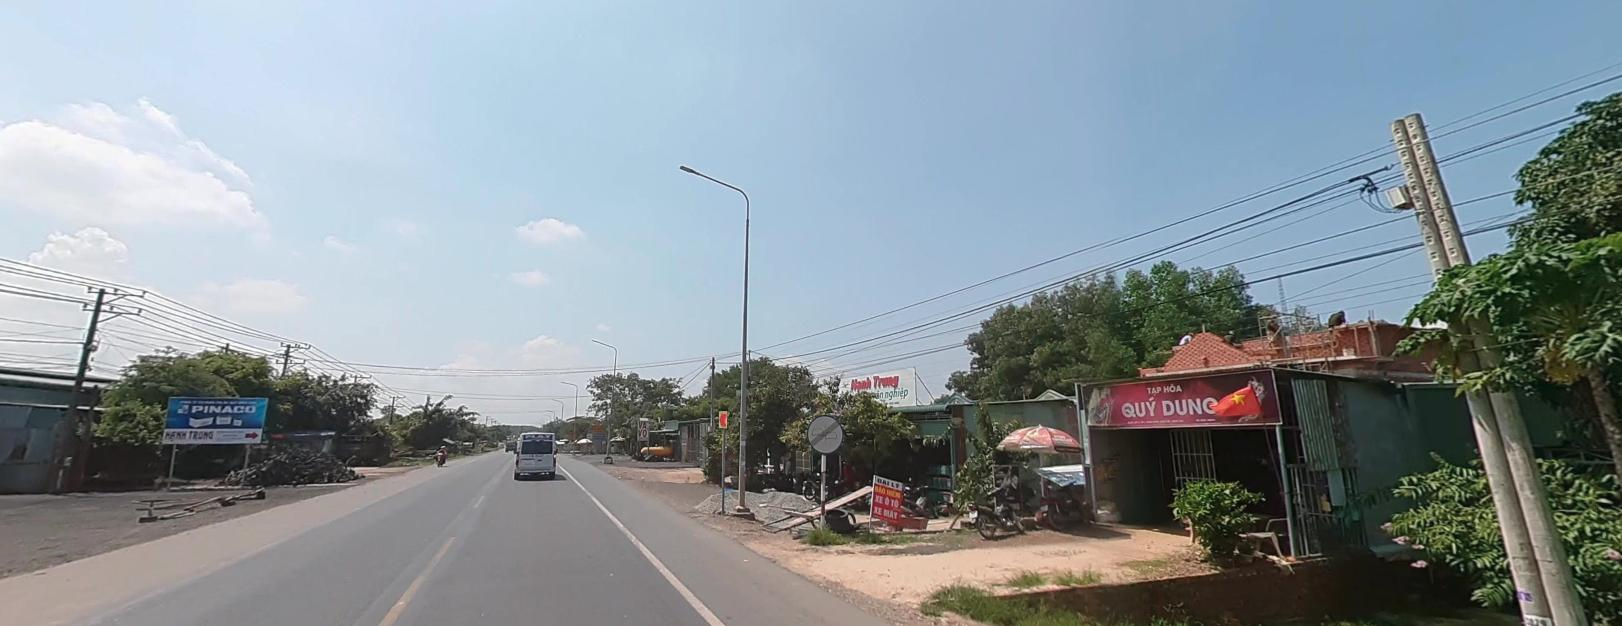Cam con lai: (808, 414, 842, 452)
